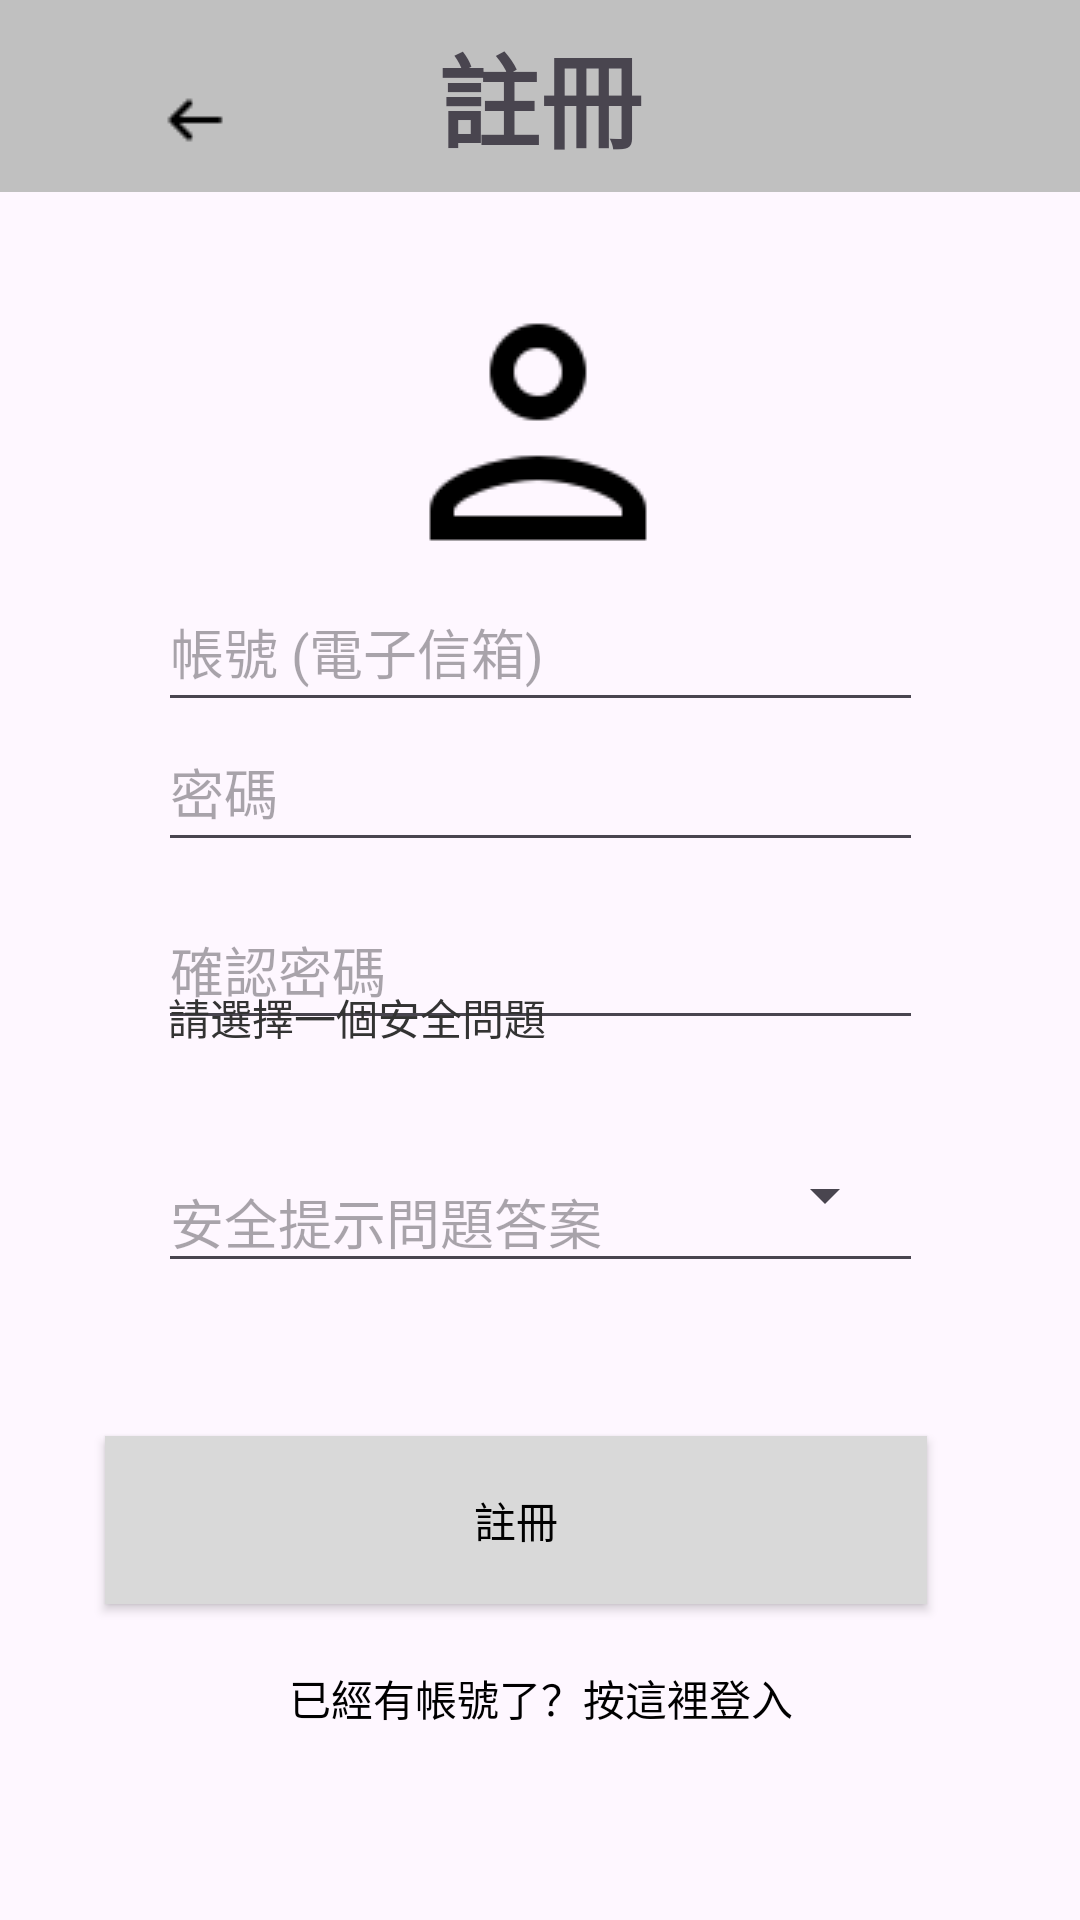

Named icons in this screenshot (1080 × 1920) and their bounding boxes, (x1=x1, y1=y1, x2=x2, y2=y2):
arrow left: (x1=167, y1=98, x2=223, y2=142)
member: (x1=429, y1=323, x2=647, y2=541)
